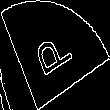P_SW: (31, 26, 79, 84)
